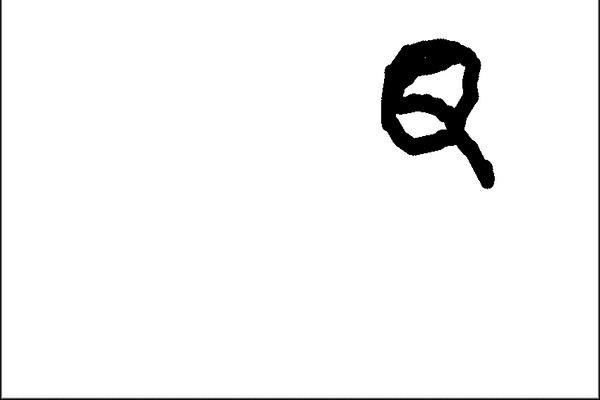Q: (366, 33, 503, 198)
